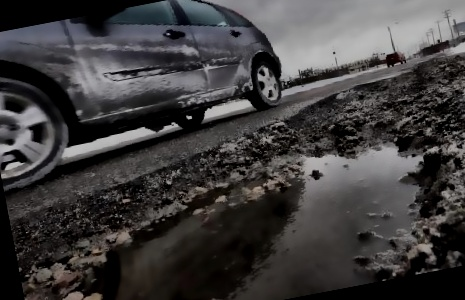pothole: (0, 53, 465, 300)
